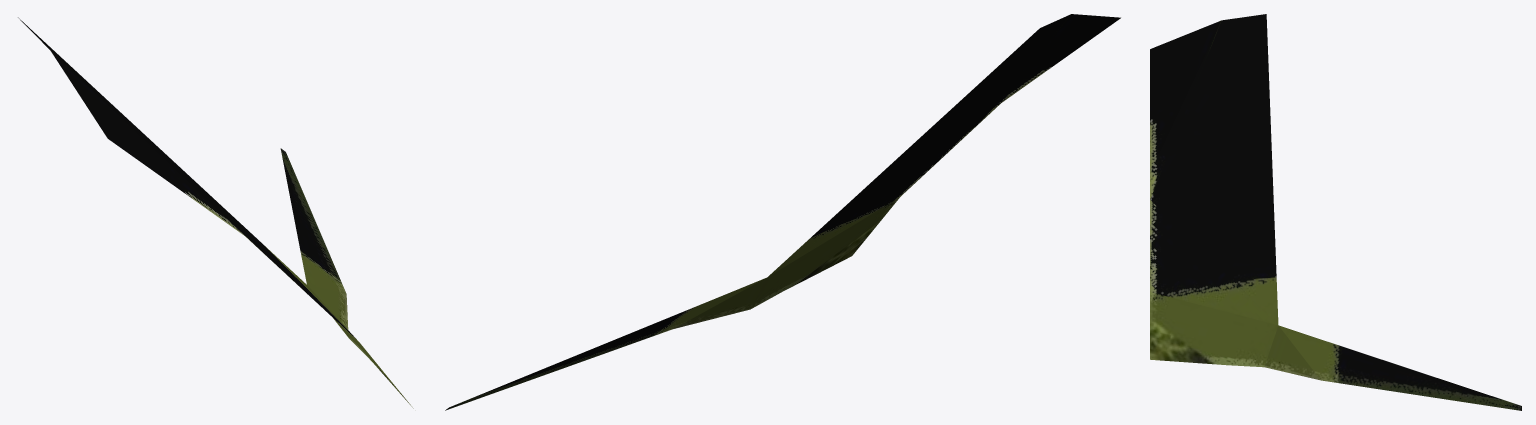
The picture shows the model from 3 angles, left to right: view 1: azimuth 30°, elevation 25°; view 2: azimuth 150°, elevation 25°; view 3: azimuth 270°, elevation 25°; orthographic projection. The views are drawn at different scales.
Bounding box in the file's own units: 5.44 × 4.41 × 5.9.
Materials: 2 (2 with a texture image).
